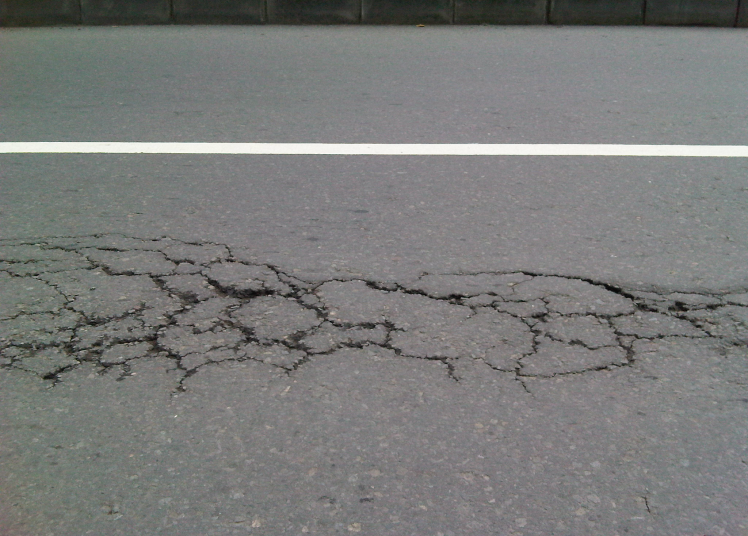Retak Buaya: (1, 233, 748, 402)
